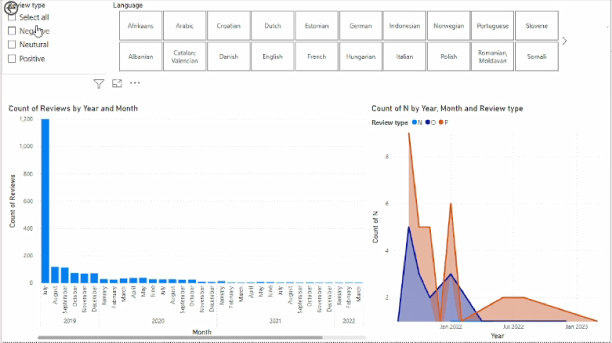

What the dashboard file says about the page in this screenshot:
{"tool":"powerbi","page":{"name":"Page 2","canvas":[1280,720],"ordinal":1},"visuals":[{"type":"slicer","fields":{"Values":["Acer Predator.Review type"]},"box":[9.6,0,297.8,159.2],"z":0},{"type":"actionButton","box":[0,0,100,40],"z":1000},{"type":"slicer","fields":{"Values":["Acer Predator.Language"]},"box":[307.4,0,972.9,159.2],"z":2000},{"type":"clusteredColumnChart","fields":{"Category":["Acer Predator.Date.Variation.Date Hierarchy.Year","Acer Predator.Date.Variation.Date Hierarchy.Month"],"Y":["CountNonNull(Acer Predator.Reviews)"]},"box":[9.6,219.6,761.6,500.9],"z":3000},{"type":"stackedAreaChart","fields":{"Category":["Acer Predator.Date.Variation.Date Hierarchy.Year","Acer Predator.Date.Variation.Date Hierarchy.Month"],"Series":["Acer Predator.Review type"],"Y":["CountNonNull(Acer Predator.Reviews)"]},"box":[771.2,183.9,509.1,536.5],"z":4000}]}

Visuals, with their boxes on the page's 1280x720 design canvas (x1, y1, x2, y2). These are canvas units, not pixel positions in the 612x343 screenshot, which may show the page scaled, cropped or inside an application window:
slicer - Acer Predator.Review type: l=10, t=0, r=307, b=159
actionButton: l=0, t=0, r=100, b=40
slicer - Acer Predator.Language: l=307, t=0, r=1280, b=159
clusteredColumnChart - Acer Predator.Date.Variation.Date Hierarchy.Year x Acer Predator.Date.Variation.Date Hierarchy.Month: l=10, t=220, r=771, b=720
stackedAreaChart - Acer Predator.Date.Variation.Date Hierarchy.Year x Acer Predator.Date.Variation.Date Hierarchy.Month: l=771, t=184, r=1280, b=720
